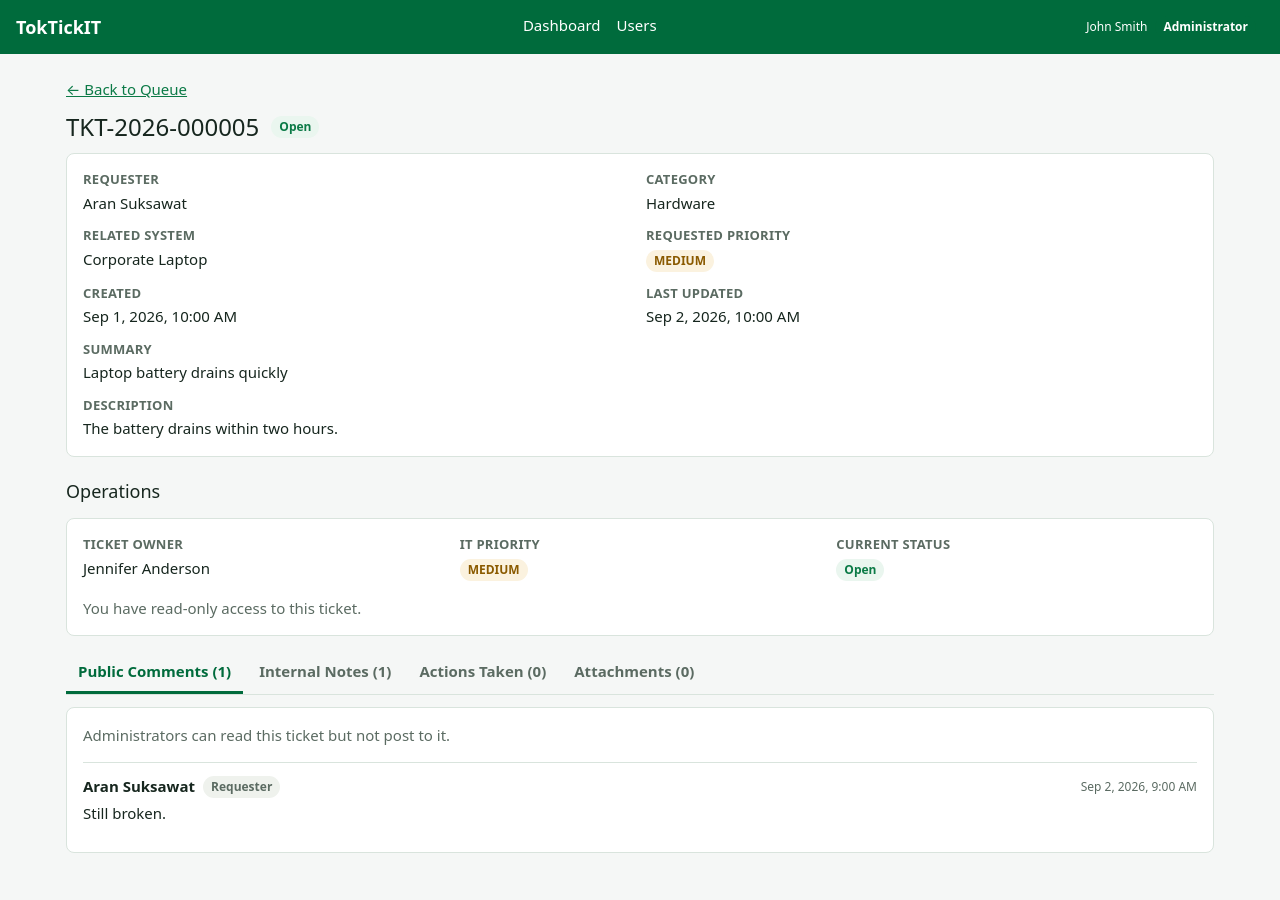
Scenario: IT Staff Ticket Detail screen › gives an Administrator a read-only view: no editable controls and no composers
Expected: the heading "TKT-2026-000005" is shown, left=66, top=112, right=259, bottom=141
Expected: the text "You have read-only access to this ticket." is shown, left=83, top=598, right=361, bottom=618
Click the tab "Internal Notes (1)": (325,673) left=247, top=652, right=403, bottom=694
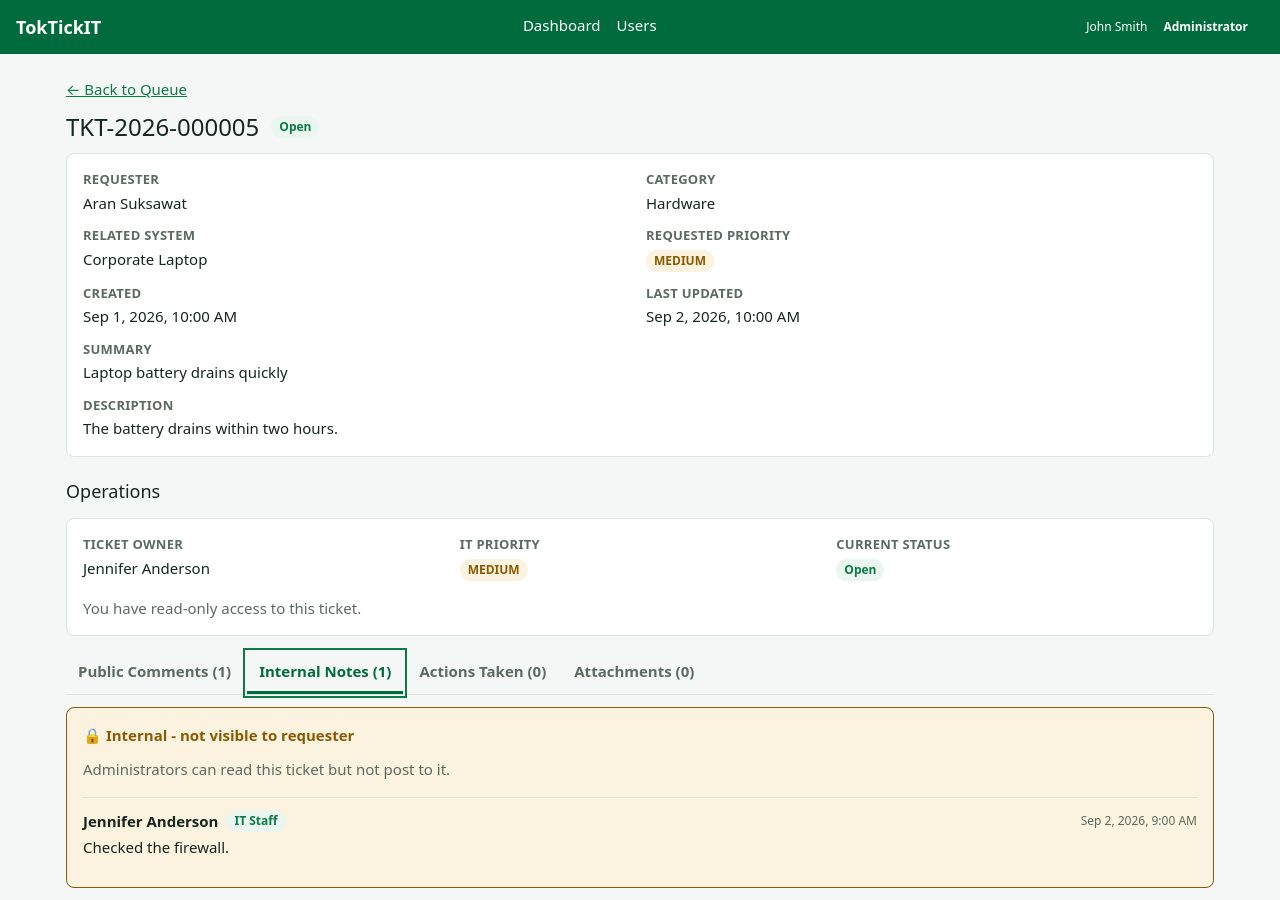
Now the text "Checked the firewall." is shown, box left=83, top=837, right=229, bottom=857
